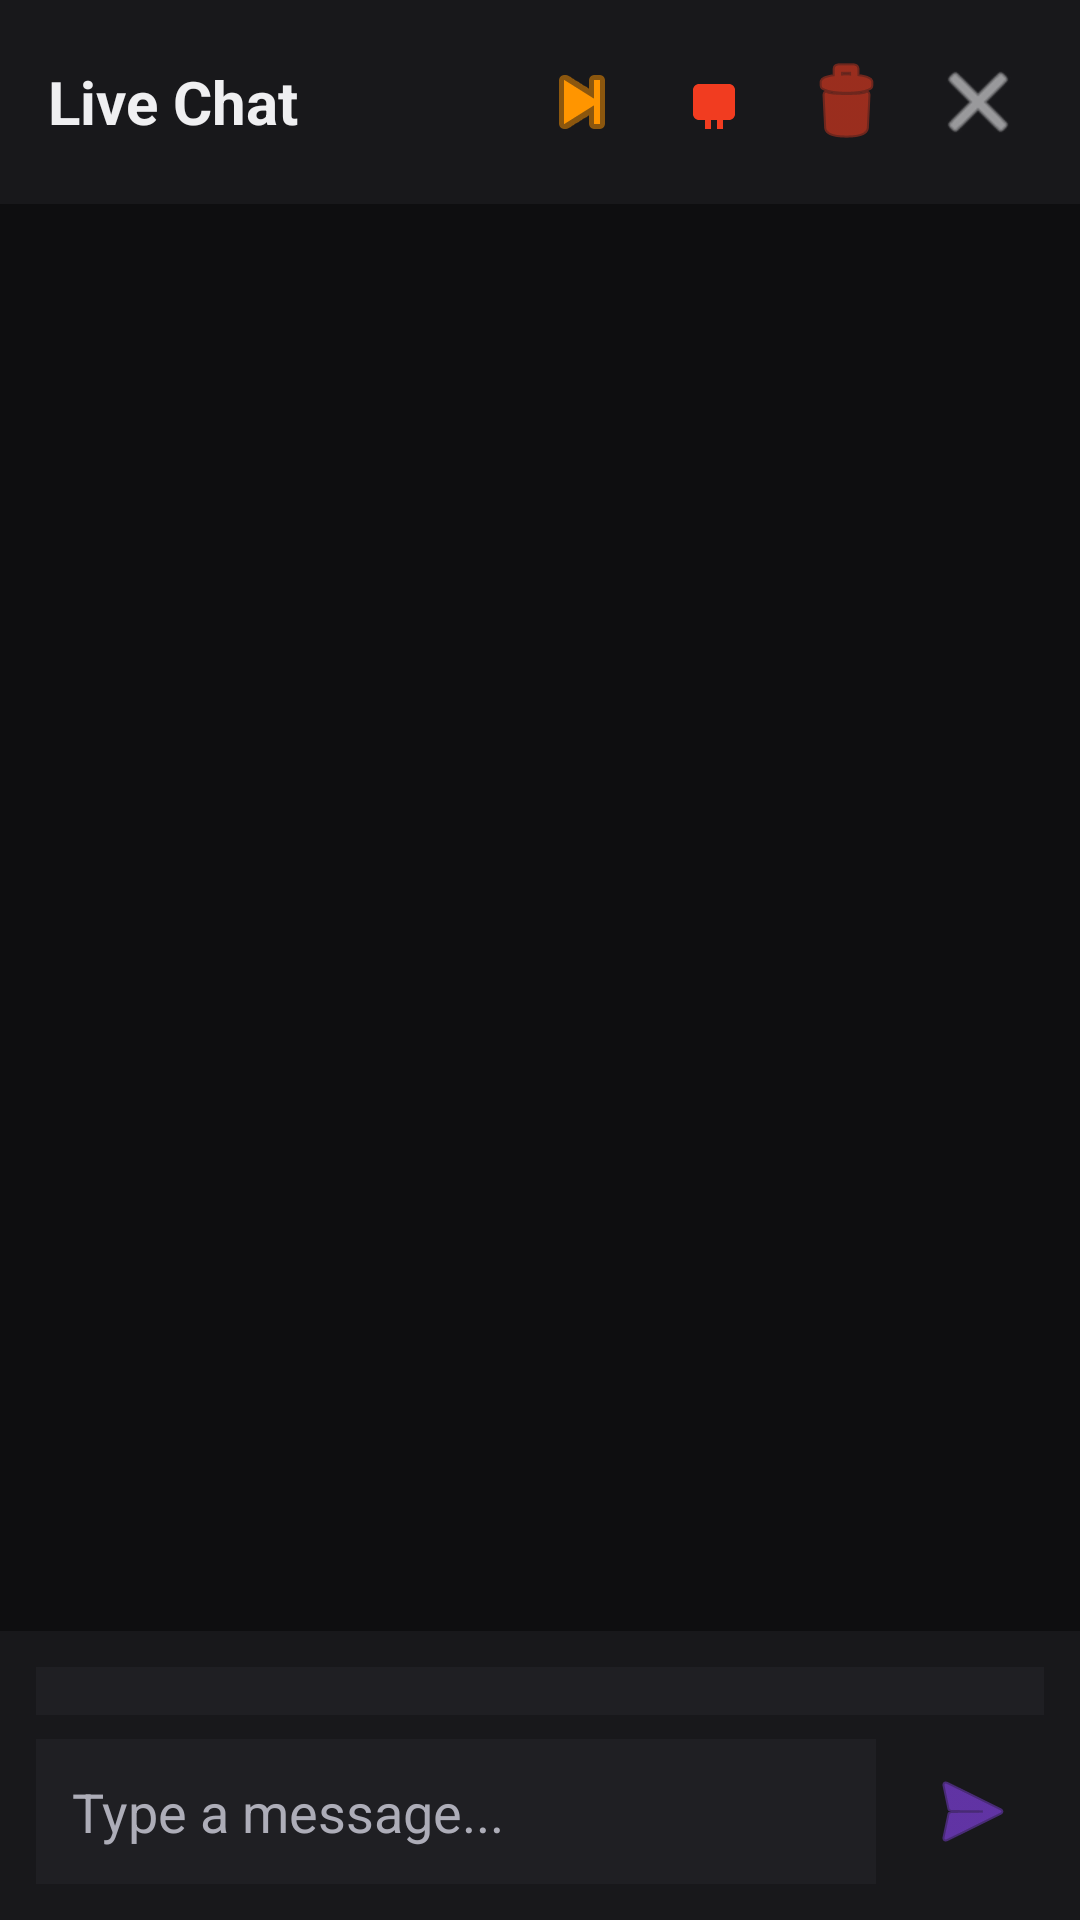

Icons on this 1080px x 1920px Android screen, each with its box as (x1, y1, x2, y2):
Clear chat: (819, 63, 874, 138)
Close chat: (948, 72, 1008, 132)
Send message: (942, 1781, 1004, 1842)
Skip TTS: (559, 75, 605, 129)
